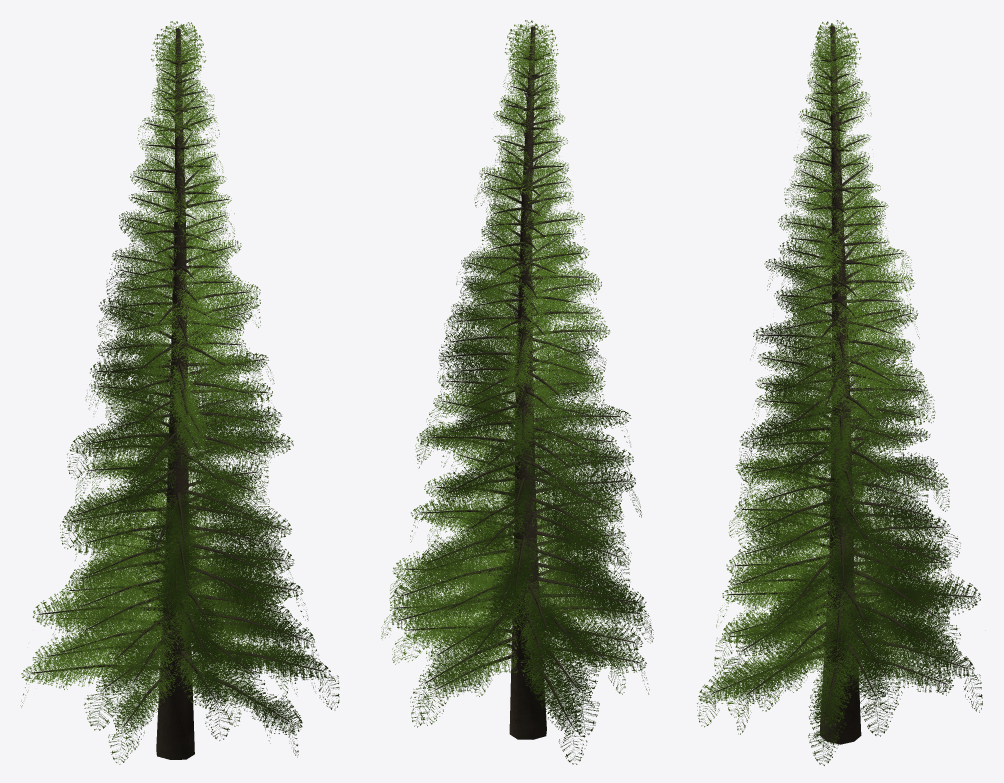
File: larch_sparse_v02_LOD1.fbx
The picture shows the model from 3 angles, left to right: view 1: azimuth 30°, elevation 25°; view 2: azimuth 150°, elevation 25°; view 3: azimuth 270°, elevation 25°; orthographic projection. The views are drawn at different scales.
Visible parts, largest first — view 1: larch_sparse_v02_LOD1; view 2: larch_sparse_v02_LOD1; view 3: larch_sparse_v02_LOD1.
Part boxes in pixels (left/top/right/bottom): larch_sparse_v02_LOD1: left=20, top=21, right=339, bottom=764; larch_sparse_v02_LOD1: left=381, top=20, right=653, bottom=764; larch_sparse_v02_LOD1: left=697, top=20, right=982, bottom=765.
Size of the model in its own units: 625 by 656 by 1721.
2 materials, 2 textured.
